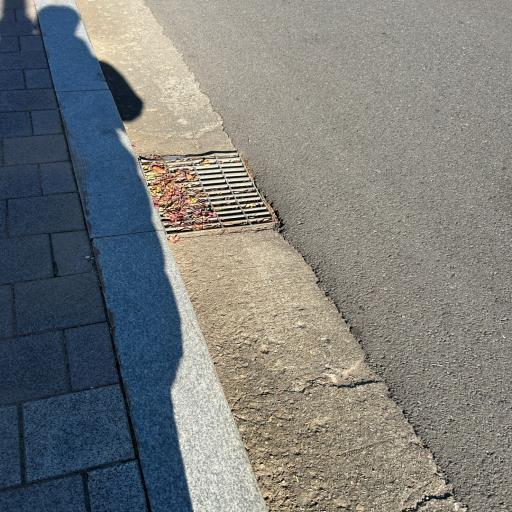debris: (222, 220, 234, 228), (266, 202, 273, 214), (266, 217, 276, 223), (201, 160, 211, 166), (246, 170, 251, 175), (192, 156, 196, 159)
drain: (140, 151, 282, 234)
